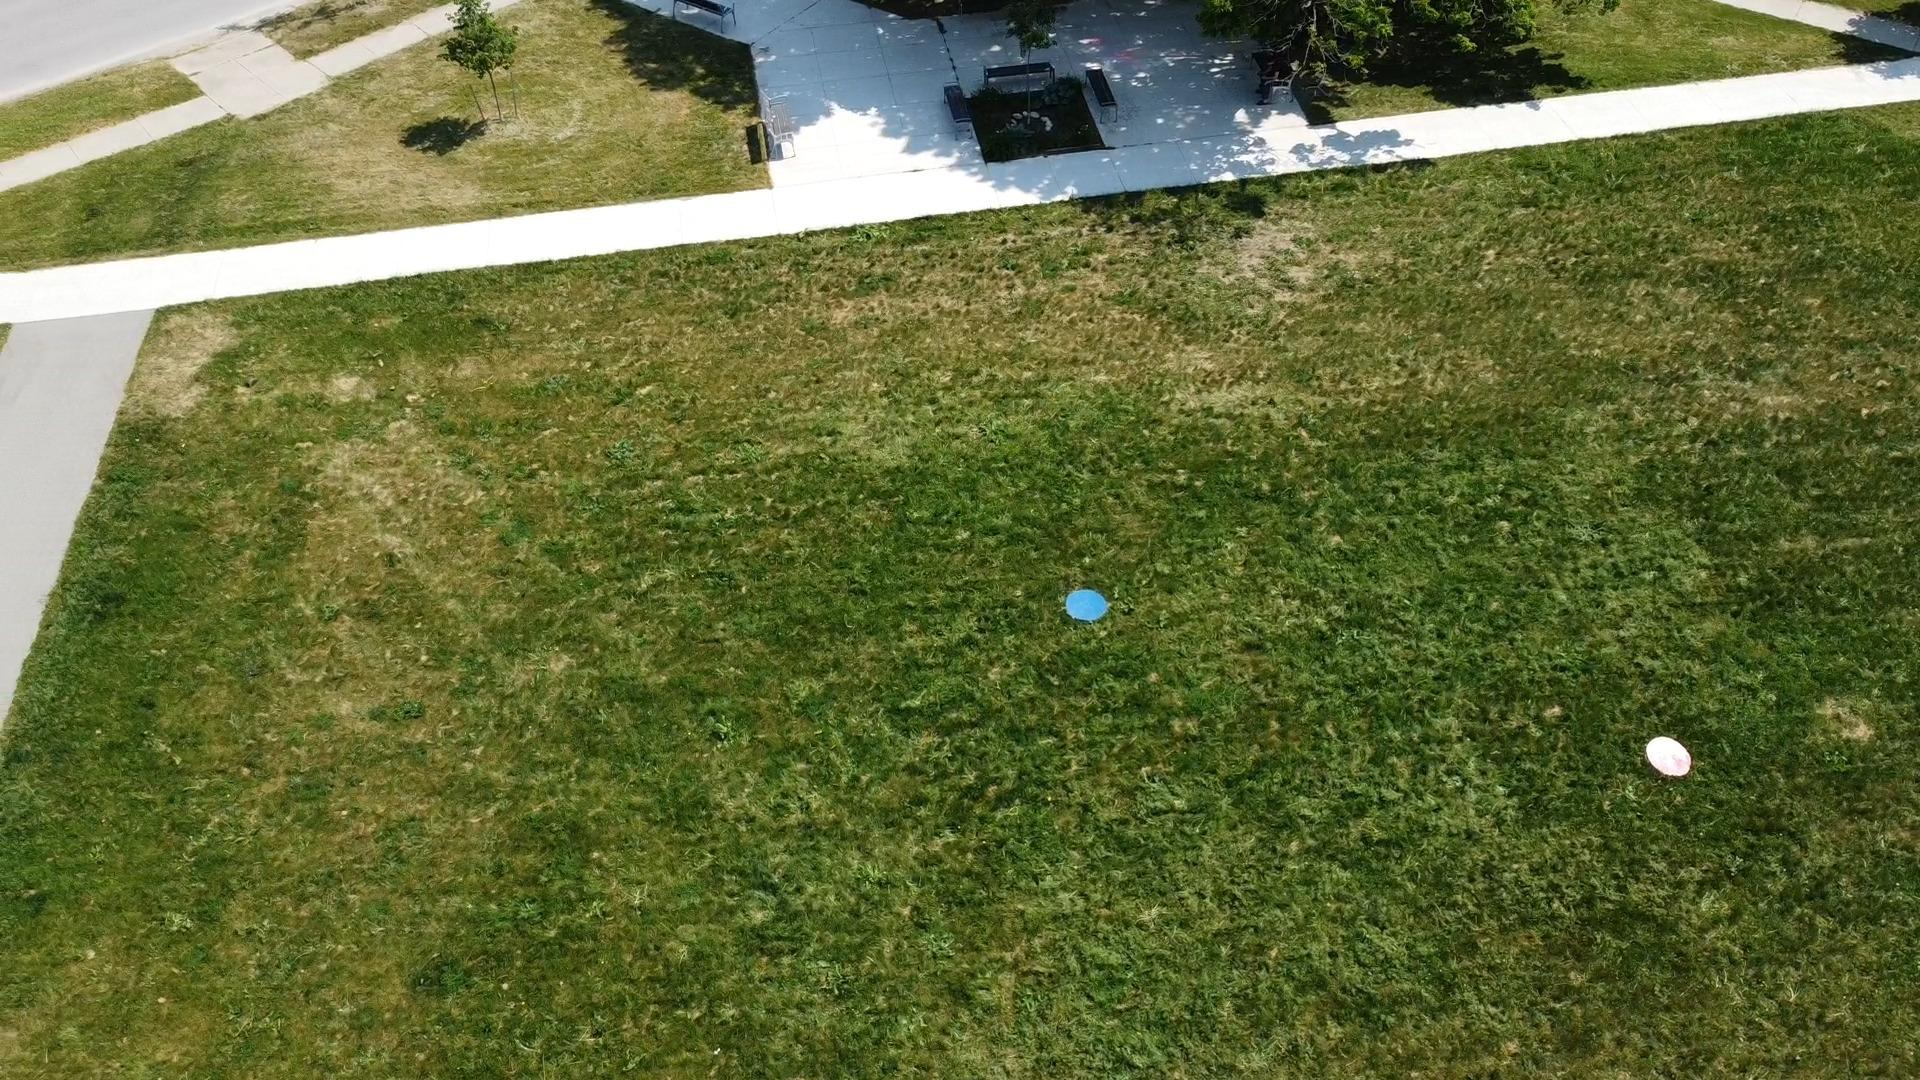Blue: (1063, 587, 1112, 622)
Red: (1644, 733, 1695, 778)
